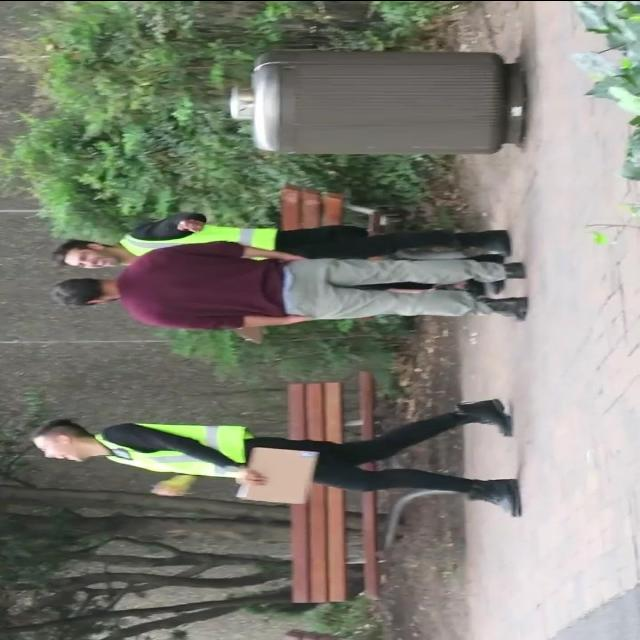jacket: (91, 414, 262, 480)
